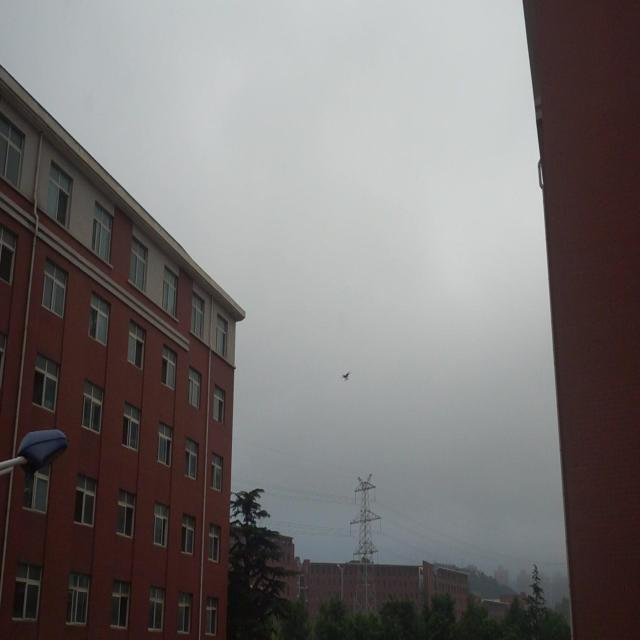drone: (341, 369, 352, 382)
